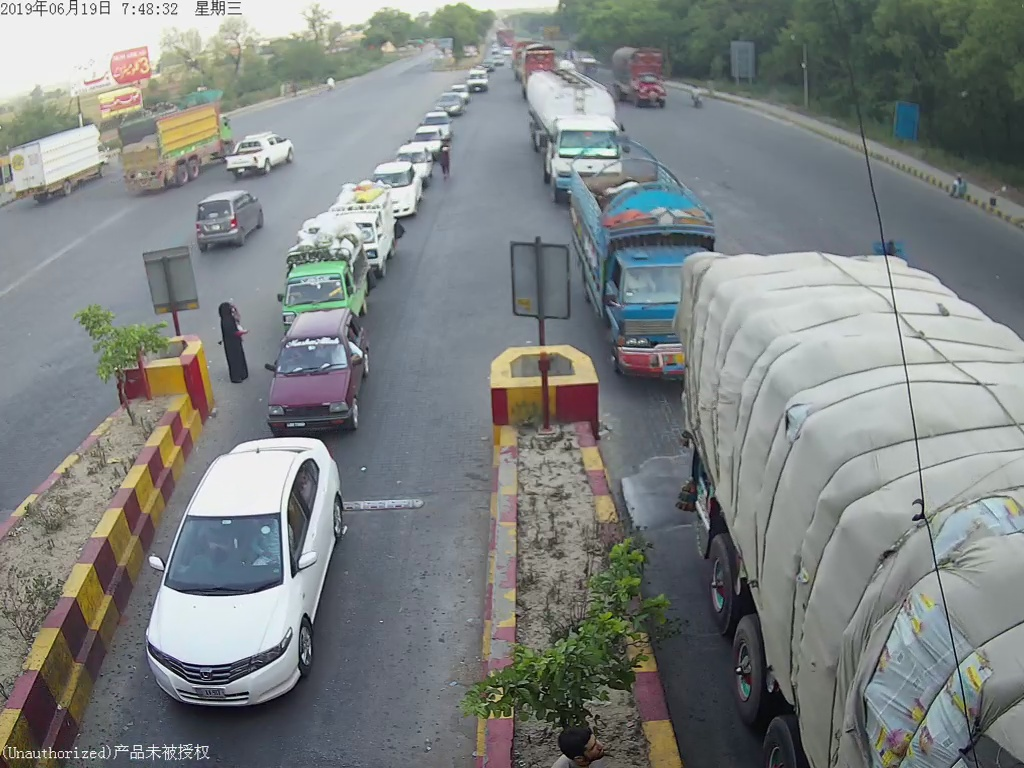Cat-1: (137, 429, 343, 708), (265, 308, 369, 432), (276, 231, 371, 319), (333, 188, 400, 270)
Cat-2: (569, 130, 715, 379)
Cat-5: (526, 59, 615, 201)
